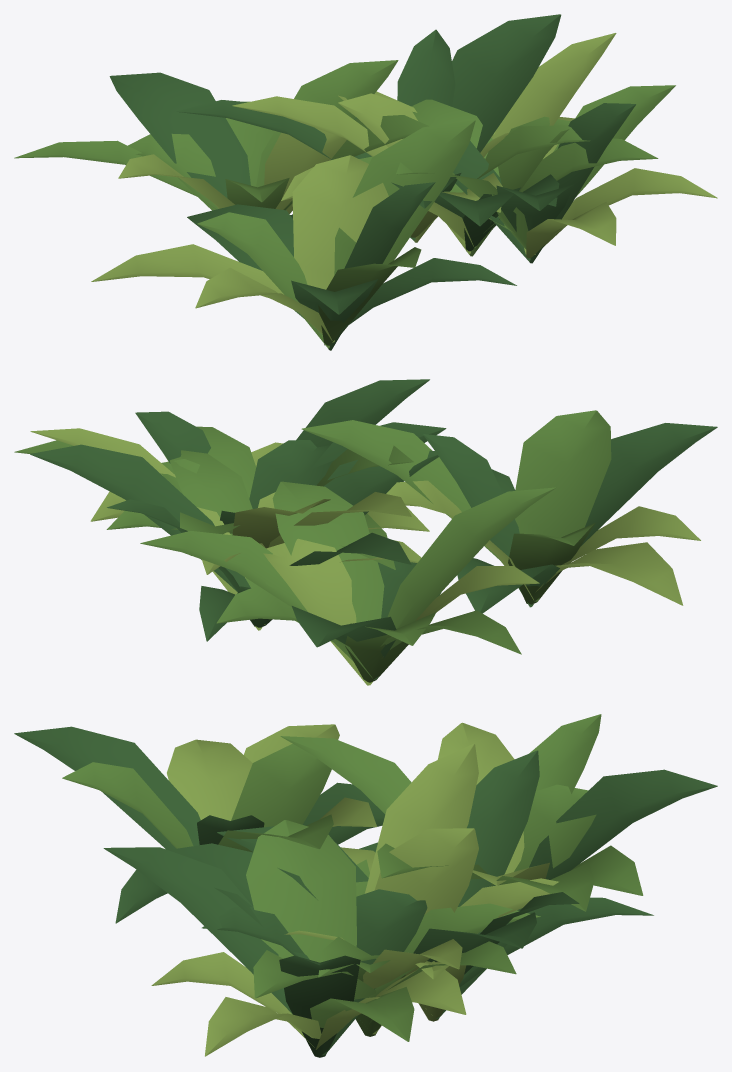
The model's file is sc_broadleaf.glb.
3 renders of one model, top to bottom at view 1: azimuth 30°, elevation 25°; view 2: azimuth 150°, elevation 25°; view 3: azimuth 270°, elevation 25°, orthographic. The views are drawn at different scales.
Parts seen in each view (by area): view 1: sc_broadleaf; view 2: sc_broadleaf; view 3: sc_broadleaf.
Part boxes in pixels (x1=…): sc_broadleaf: x1=14, y1=14, x2=717, y2=350; sc_broadleaf: x1=14, y1=379, x2=717, y2=685; sc_broadleaf: x1=14, y1=714, x2=717, y2=1057.
Size of the model in its own units: 1.63 by 0.4133 by 1.42.
